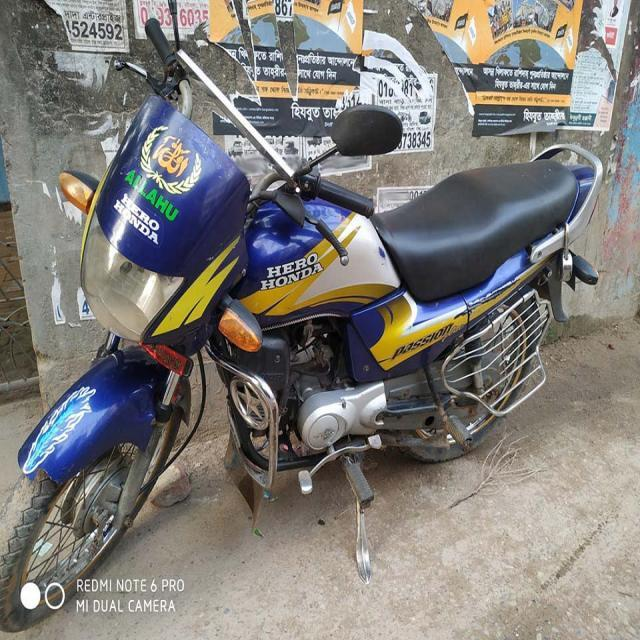Motorbike: (5, 67, 626, 571)
